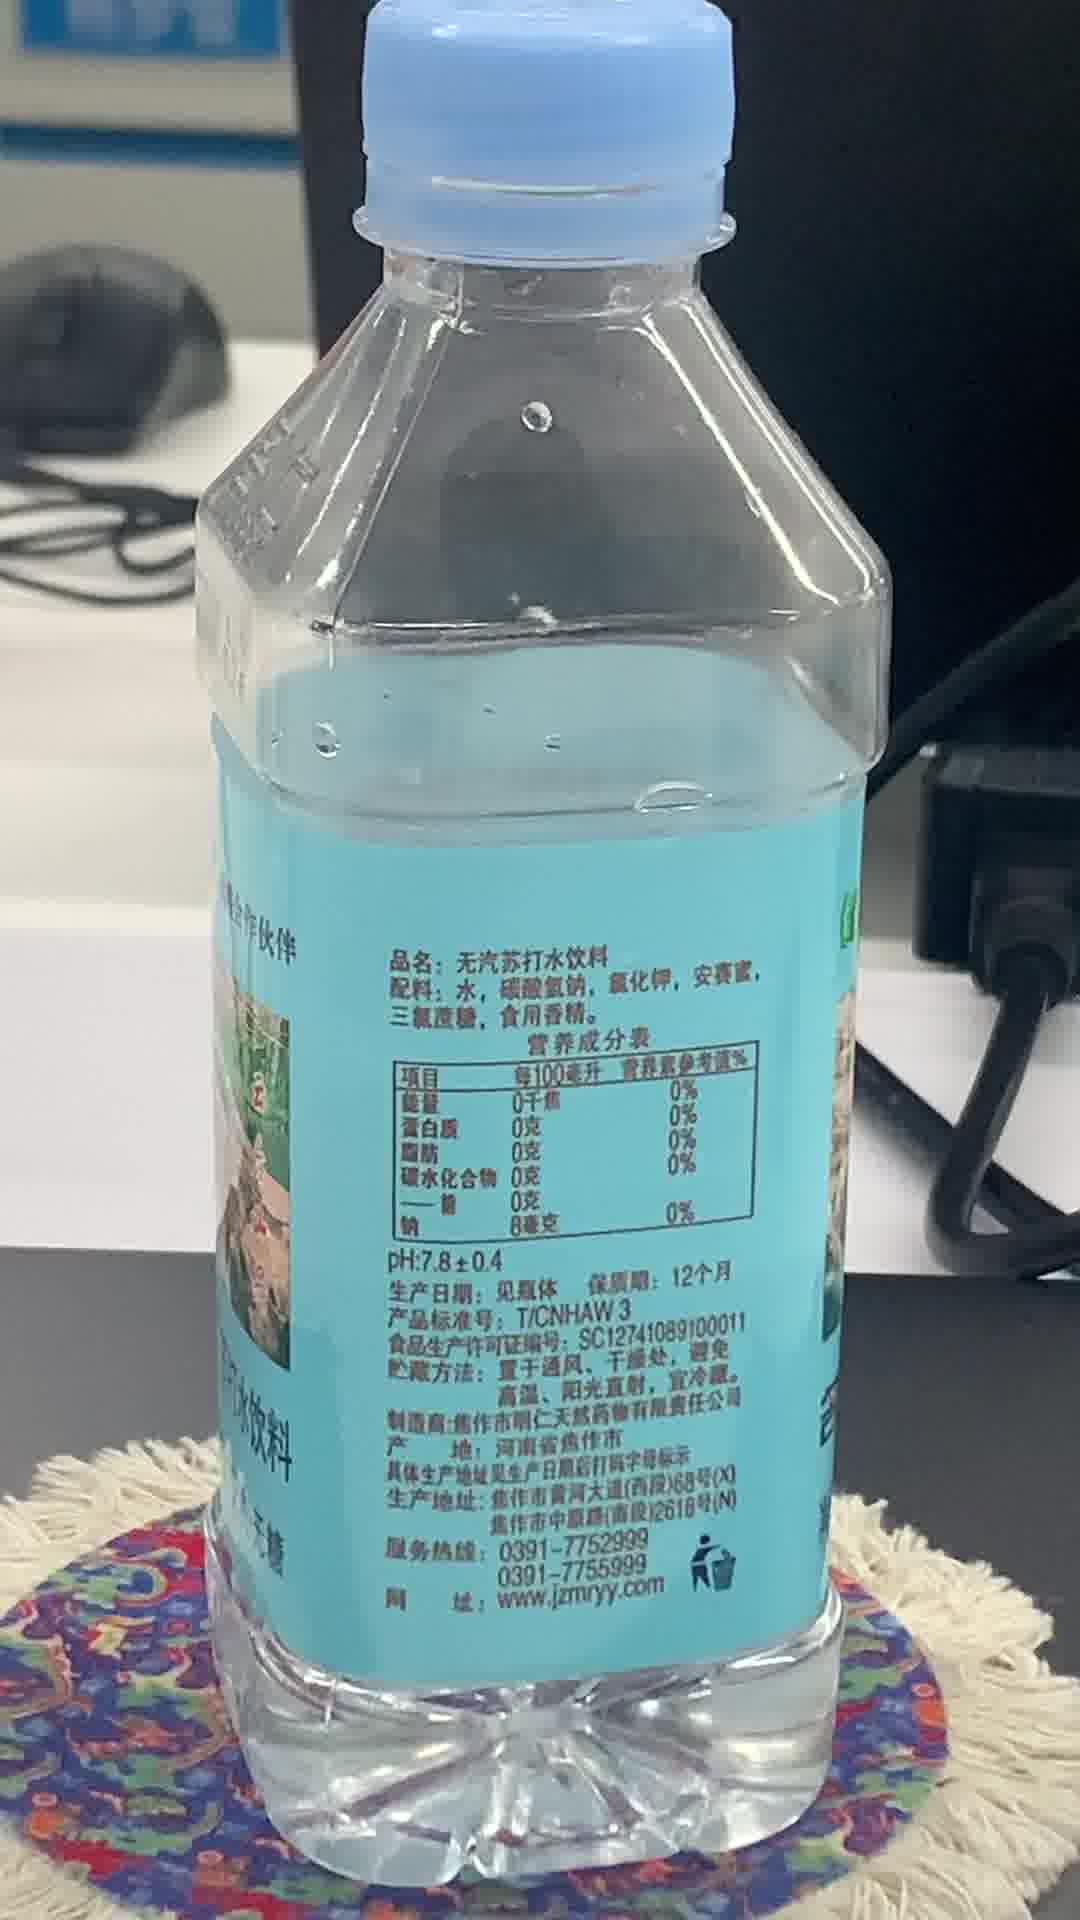水瓶: (189, 0, 862, 1894)
